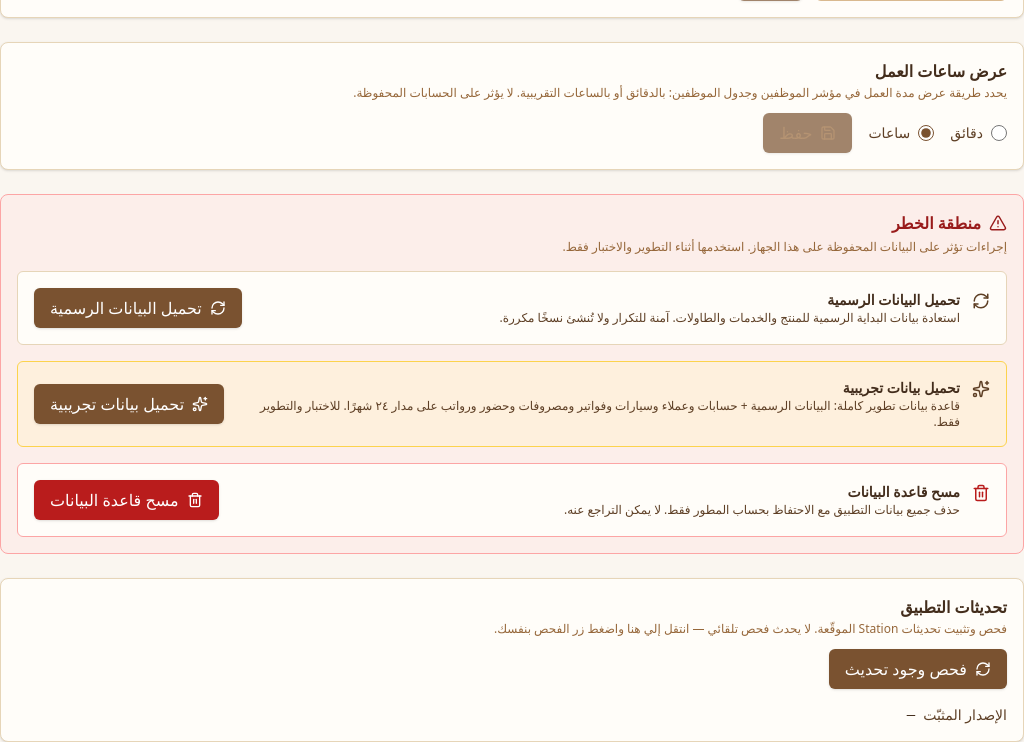
DevSettingsPage › surfaces a Clear Database failure in Arabic instead of reporting success
The image size is (1024, 742).
(page scrolled)
Click the button "مسح قاعدة البيانات" at coordinates (126, 500), box [34,480,219,520]
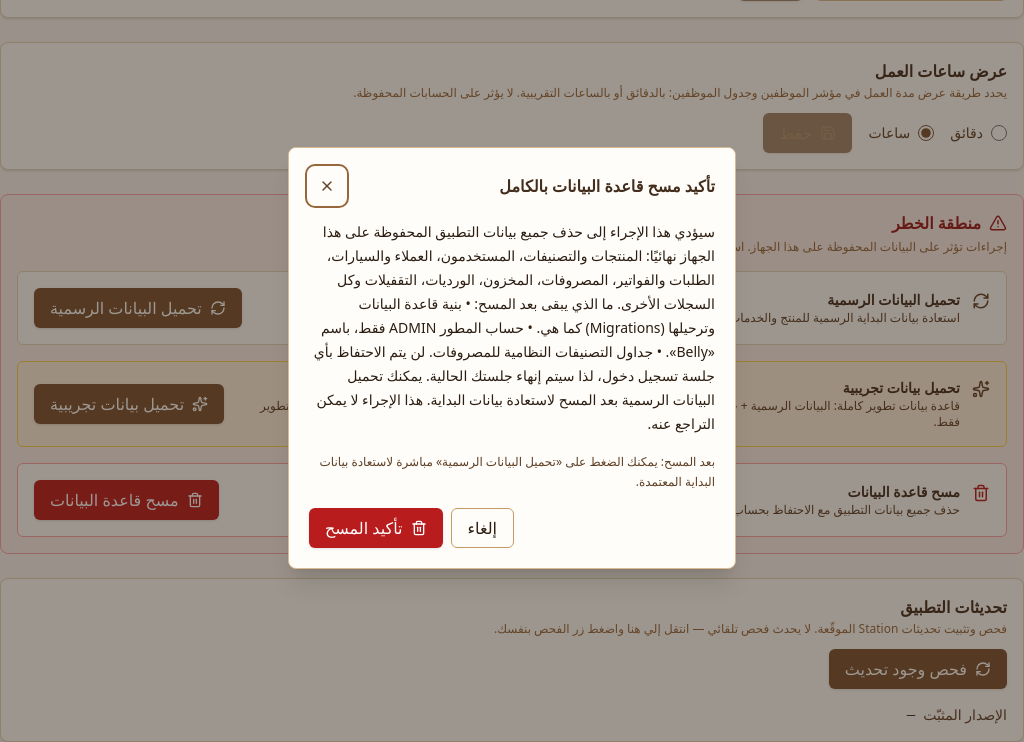
Click the button "تأكيد المسح" at coordinates (376, 528), box [309,508,442,548]
(page scrolled)
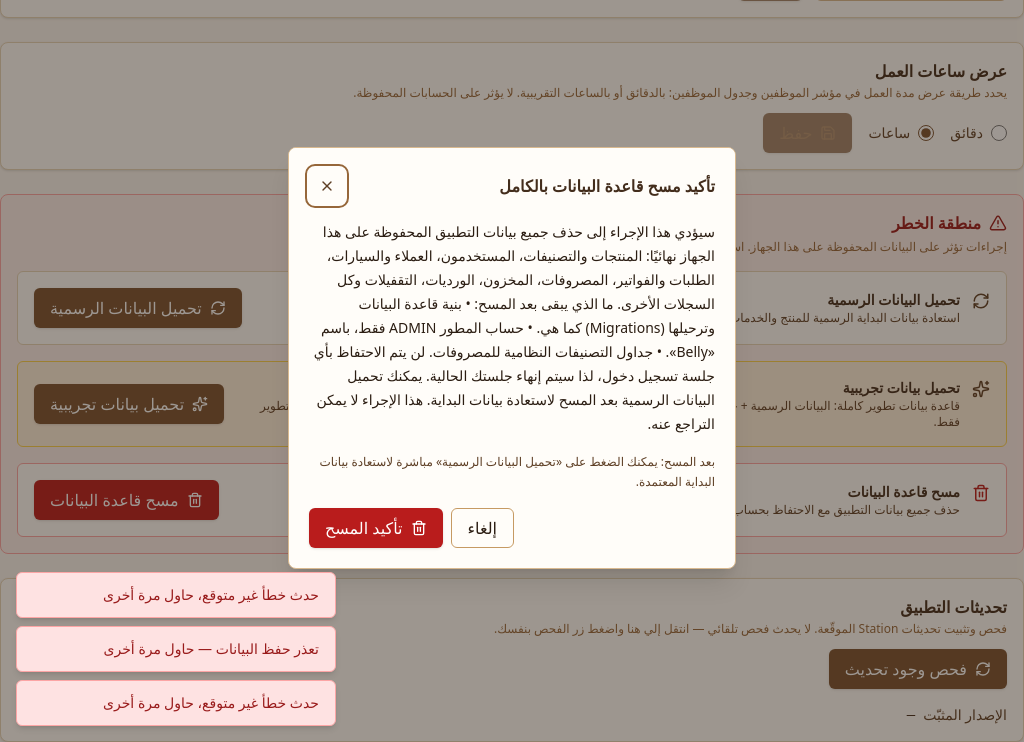
Expected: the text "تعذر حفظ البيانات — حاول مرة أخرى" is shown, [16,626,336,672]
